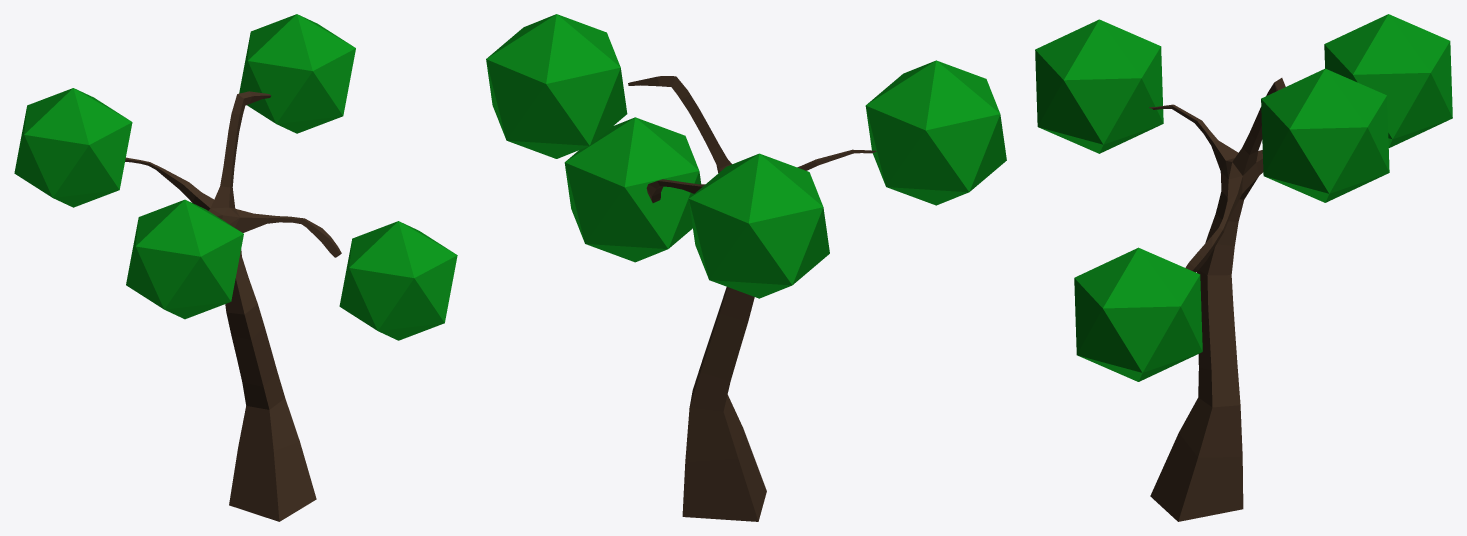
The model's file is ASSET_TREE.glb.
3 renders of one model, left to right at view 1: azimuth 30°, elevation 25°; view 2: azimuth 150°, elevation 25°; view 3: azimuth 270°, elevation 25°, orthographic. The views are drawn at different scales.
Visible parts, largest first — view 1: ASSET_TREE.000|0; view 2: ASSET_TREE.000|0; view 3: ASSET_TREE.000|0.
Boxes of the visible parts, left/top/right/bottom form: ASSET_TREE.000|0: left=14, top=14, right=457, bottom=521; ASSET_TREE.000|0: left=486, top=14, right=1006, bottom=521; ASSET_TREE.000|0: left=1035, top=14, right=1452, bottom=521.
Bounding box in the file's own units: 2.84 × 3.48 × 2.75.
